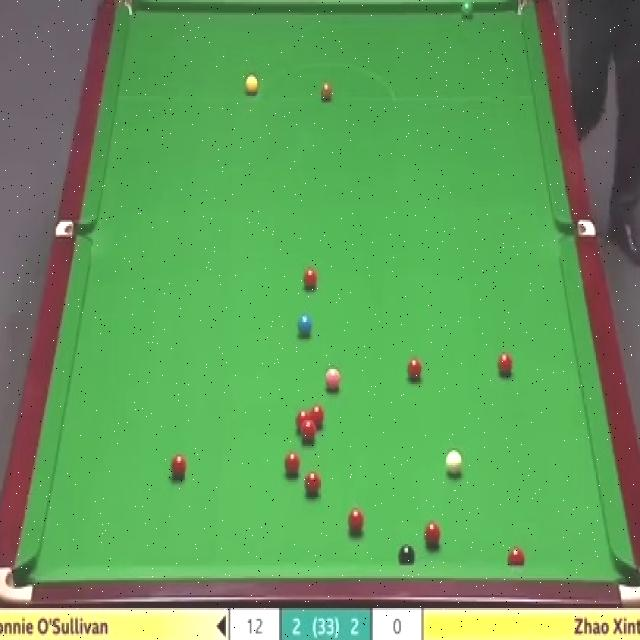black-ball: (398, 543, 416, 566)
blue-ball: (296, 314, 314, 336)
brown-ball: (320, 78, 332, 100)
green-ball: (460, 0, 474, 17)
pink-ball: (324, 363, 344, 396)
red-ball: (168, 450, 190, 484), (304, 466, 323, 496), (423, 522, 442, 551), (303, 267, 322, 295), (348, 506, 365, 536), (281, 453, 301, 478), (406, 354, 423, 383), (295, 409, 310, 436), (497, 352, 512, 378), (310, 405, 325, 430), (507, 546, 526, 565), (302, 423, 318, 444)
white-ball: (444, 450, 462, 477)
yellow-ball: (245, 77, 258, 95)
